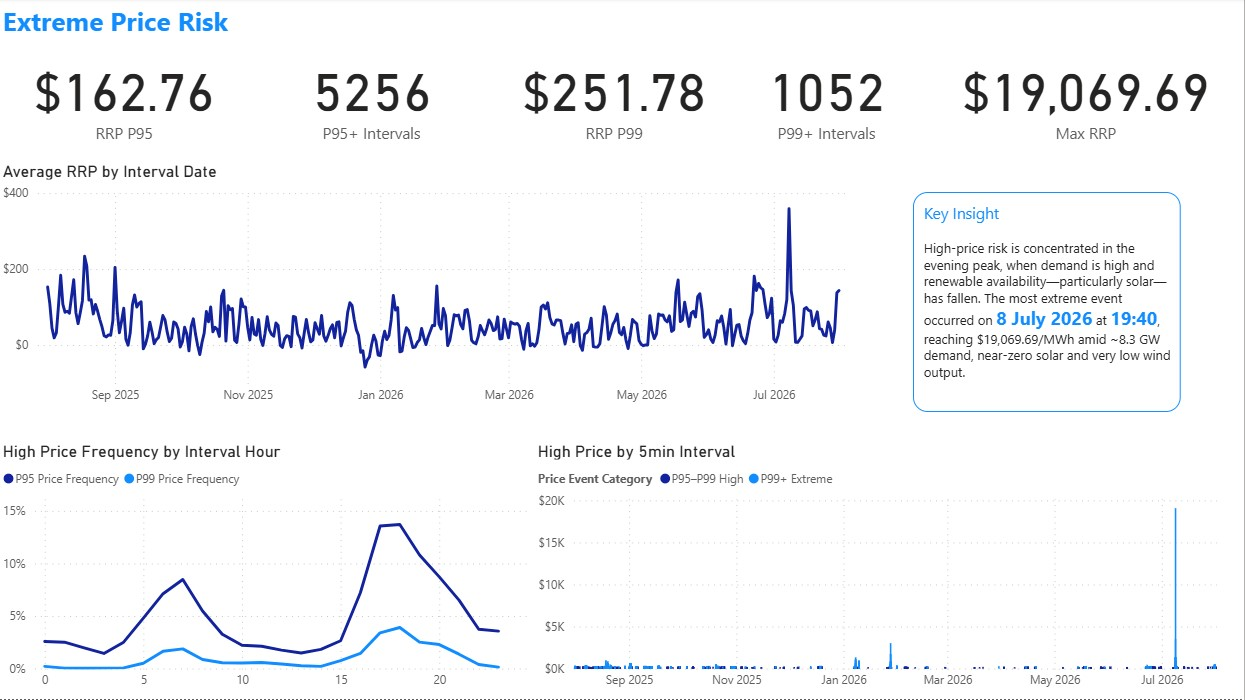

The dashboard page shown, as its layout file describes it:
{"tool":"powerbi","page":{"name":"Extreme Price Risk","canvas":[1280,720],"ordinal":2},"visuals":[{"type":"lineChart","title":"High Price Frequency by Interval Hour","fields":{"Category":["final_market_dataset.Interval Hour"],"Y":["final_market_dataset.P95 Price Frequency","final_market_dataset.P99 Price Frequency"]},"box":[0,455.4,549.4,263.8],"z":0},{"type":"textbox","box":[0,0,1280,50.3],"z":1000},{"type":"columnChart","title":"High Price by 5min Interval","fields":{"Category":["final_market_dataset.SETTLEMENTDATE"],"Y":["final_market_dataset.Average RRP"],"Series":["final_market_dataset.Price Event Category"]},"box":[549.4,455.4,730.6,263.8],"z":2000},{"type":"card","fields":{"Values":["final_market_dataset.RRP P95"]},"box":[0,42.7,259,114.8],"z":3000},{"type":"card","fields":{"Values":["final_market_dataset.RRP P99"]},"box":[496.1,25.7,273.4,149],"z":4000},{"type":"card","fields":{"Values":["final_market_dataset.P95+ Intervals"]},"box":[252,25.7,264,149],"z":5000},{"type":"card","fields":{"Values":["final_market_dataset.P99+ Intervals"]},"box":[727.2,25.7,247.6,149],"z":6000},{"type":"card","fields":{"Values":["final_market_dataset.Maximum RRP"]},"box":[954.8,25.7,326.2,149],"z":7000},{"type":"lineChart","fields":{"Y":["final_market_dataset.Average RRP"],"Category":["final_market_dataset.Interval Date"]},"box":[0,167,891,258.1],"z":8000},{"type":"textbox","box":[940,199.7,275.2,225.8],"z":9000}]}

Visuals, with their boxes in screenshot pixels (x1, y1, x2, y2), scaled from the page's 1280x720 canvas onto the 1245x700 screenshot:
"High Price Frequency by Interval Hour" lineChart: x1=0, y1=443, x2=534, y2=699
textbox: x1=0, y1=0, x2=1244, y2=49
"High Price by 5min Interval" columnChart: x1=534, y1=443, x2=1244, y2=699
card - final_market_dataset.RRP P95: x1=0, y1=42, x2=252, y2=153
card - final_market_dataset.RRP P99: x1=483, y1=25, x2=748, y2=170
card - final_market_dataset.P95+ Intervals: x1=245, y1=25, x2=502, y2=170
card - final_market_dataset.P99+ Intervals: x1=707, y1=25, x2=948, y2=170
card - final_market_dataset.Maximum RRP: x1=929, y1=25, x2=1244, y2=170
lineChart - final_market_dataset.Average RRP x final_market_dataset.Interval Date: x1=0, y1=162, x2=867, y2=413
textbox: x1=914, y1=194, x2=1182, y2=414
